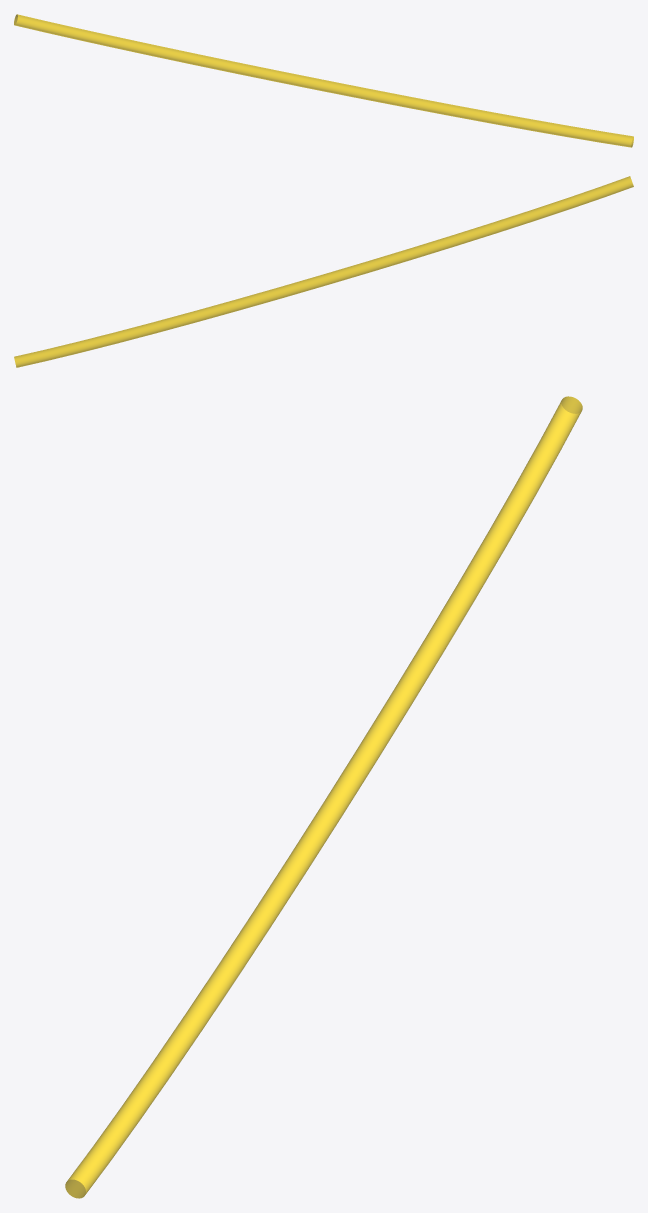
Rendered from Event_17758602_track_30.fbx.
3 views of the same model, one above another, from view 1: azimuth 30°, elevation 25°; view 2: azimuth 210°, elevation 25°; view 3: azimuth 270°, elevation 25° (orthographic). The views are drawn at different scales.
Parts seen in each view (by area): view 1: Model; view 2: Model; view 3: Model.
Part boxes in pixels (x1,y1,x2,y2): Model: (14, 14, 633, 147); Model: (14, 176, 633, 367); Model: (65, 396, 582, 1198).
Bounding box in the file's own units: 1.99 × 0.6183 × 0.8974.
